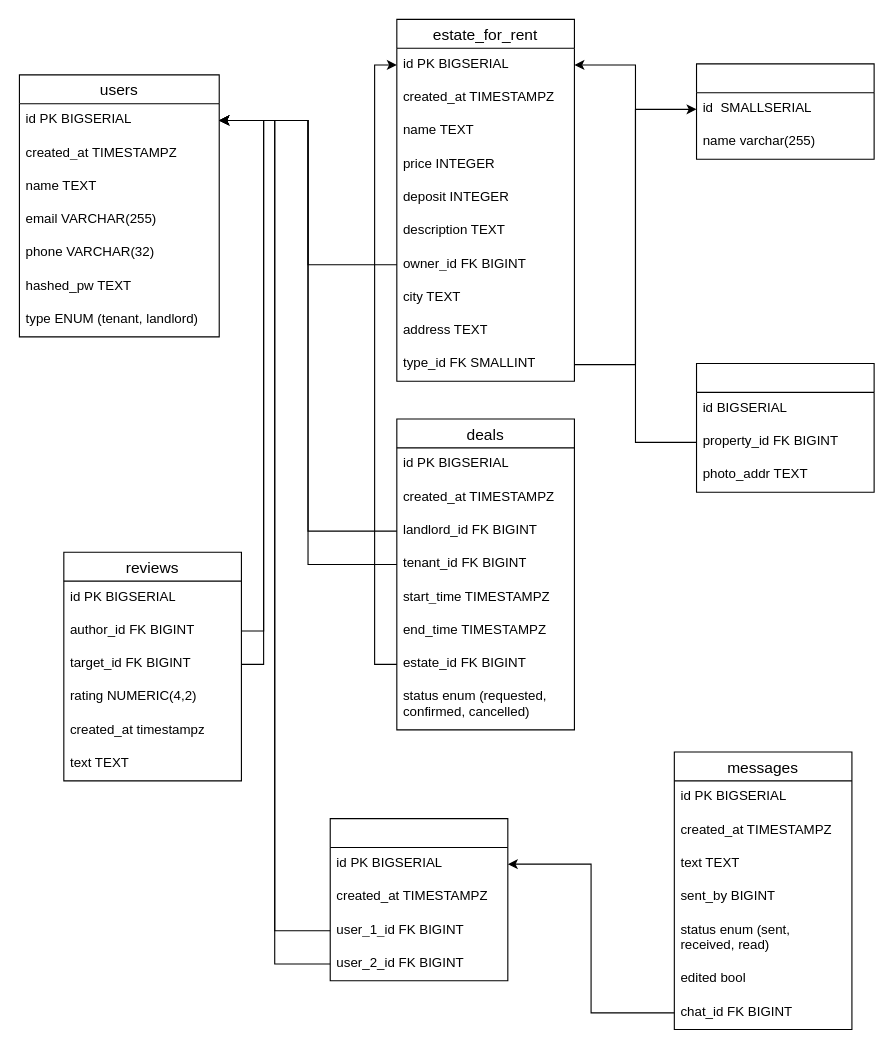
Image size: 894x1052. Some labels were removed from this diagram. The box of each missing label's shape, as (x1, y1, x2, y2) in pixels:
chat: (329, 818, 508, 981)
estate_types: (695, 63, 874, 159)
photos: (695, 362, 874, 492)
